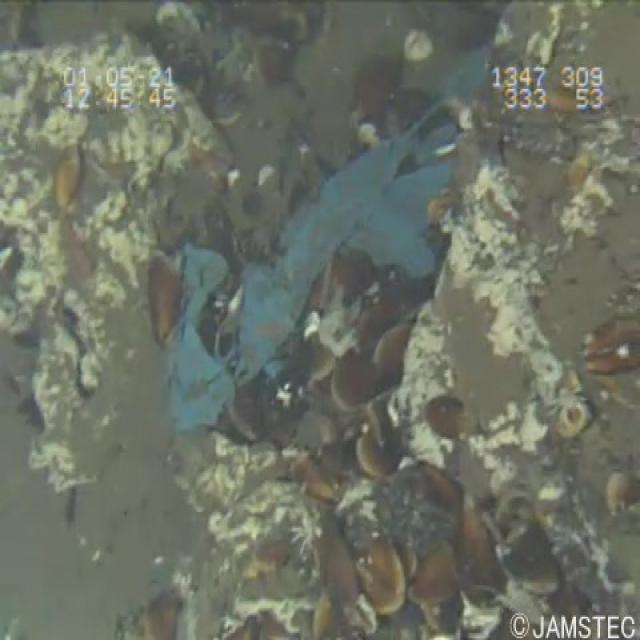plastic: (150, 36, 502, 450)
